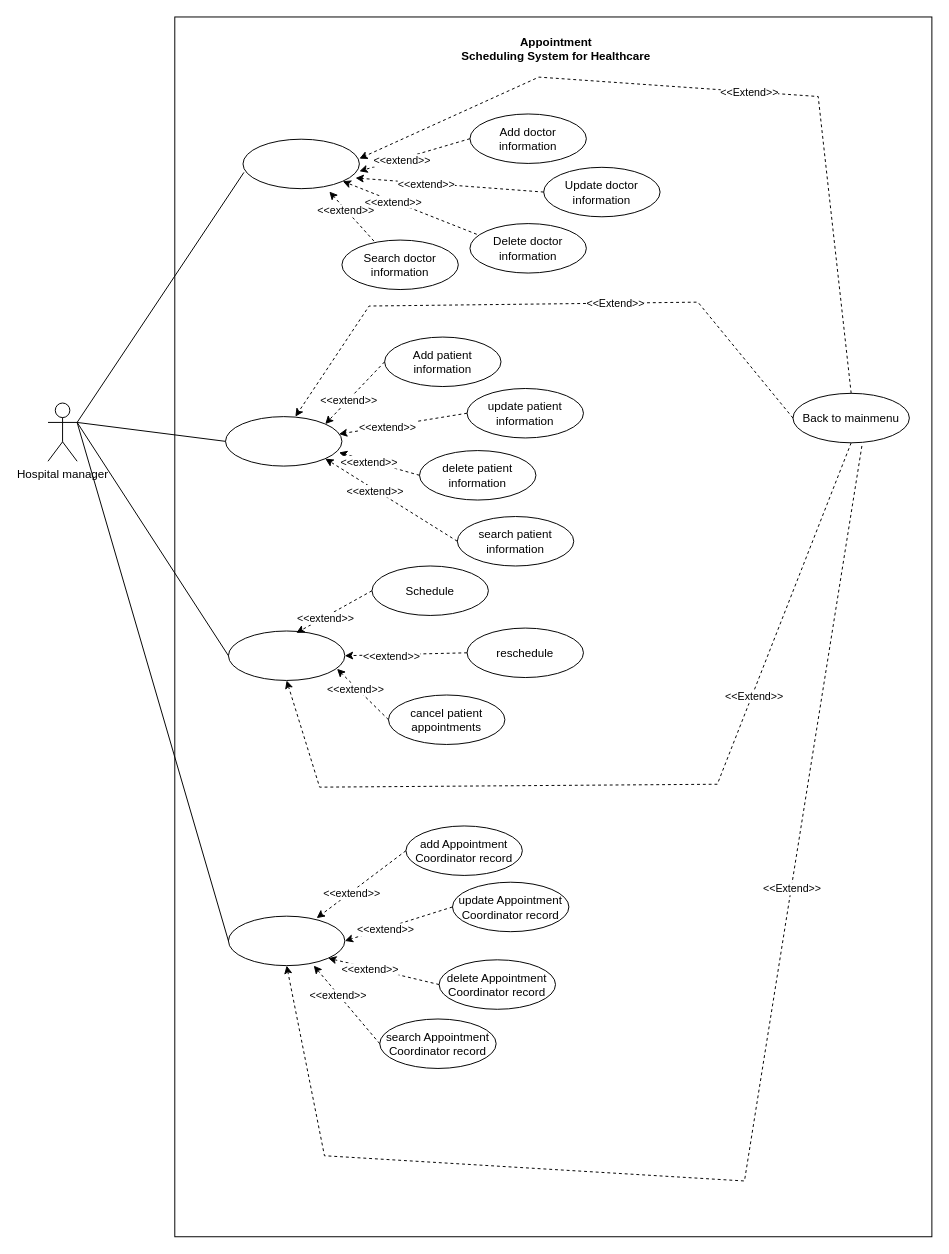
Some shapes in this 949 by 1254 pixel diagram are drawn without their labels. Here are the shapes that lost their labels. From the top down, the centre of each, then its label:
At point (300, 163): "Manage doctor".
At point (283, 441): "Manage Patient".
At point (286, 655): "Manage Appointment record".
At point (286, 940): "manage Appointment Coordinator".
